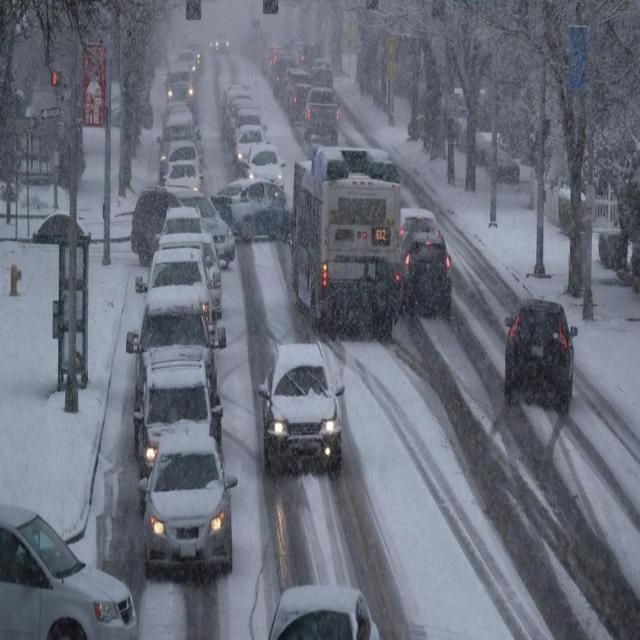car: (2, 505, 138, 639), (142, 433, 234, 578), (258, 344, 346, 480), (126, 292, 228, 406), (501, 292, 577, 412), (132, 182, 235, 268), (140, 366, 218, 470), (268, 585, 379, 639), (148, 241, 216, 325), (401, 231, 449, 325), (214, 177, 288, 237), (401, 201, 438, 248), (302, 87, 338, 134), (248, 147, 284, 191), (235, 126, 265, 166), (164, 63, 194, 102), (161, 142, 203, 168), (163, 105, 195, 137), (299, 42, 321, 66), (292, 83, 304, 121), (312, 62, 332, 84), (212, 28, 230, 52)
truck: (291, 140, 397, 343)
